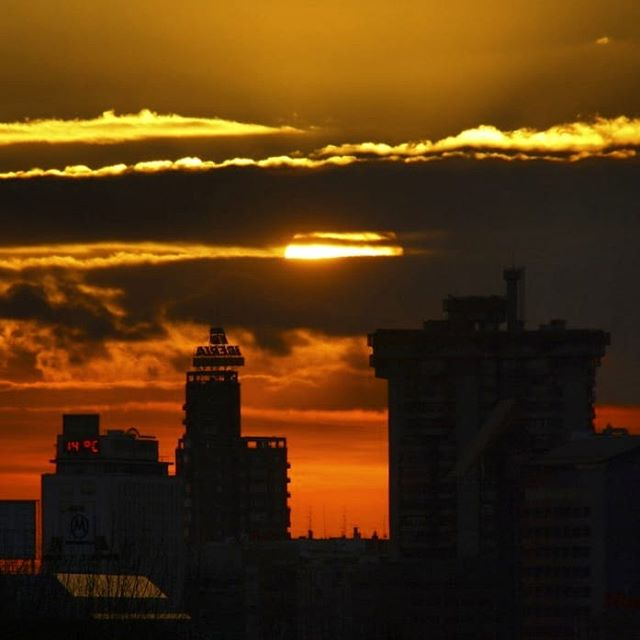building: (379, 319, 636, 640), (173, 357, 298, 539), (49, 441, 184, 604)
sky: (1, 1, 640, 322)
sun: (275, 214, 408, 272)
